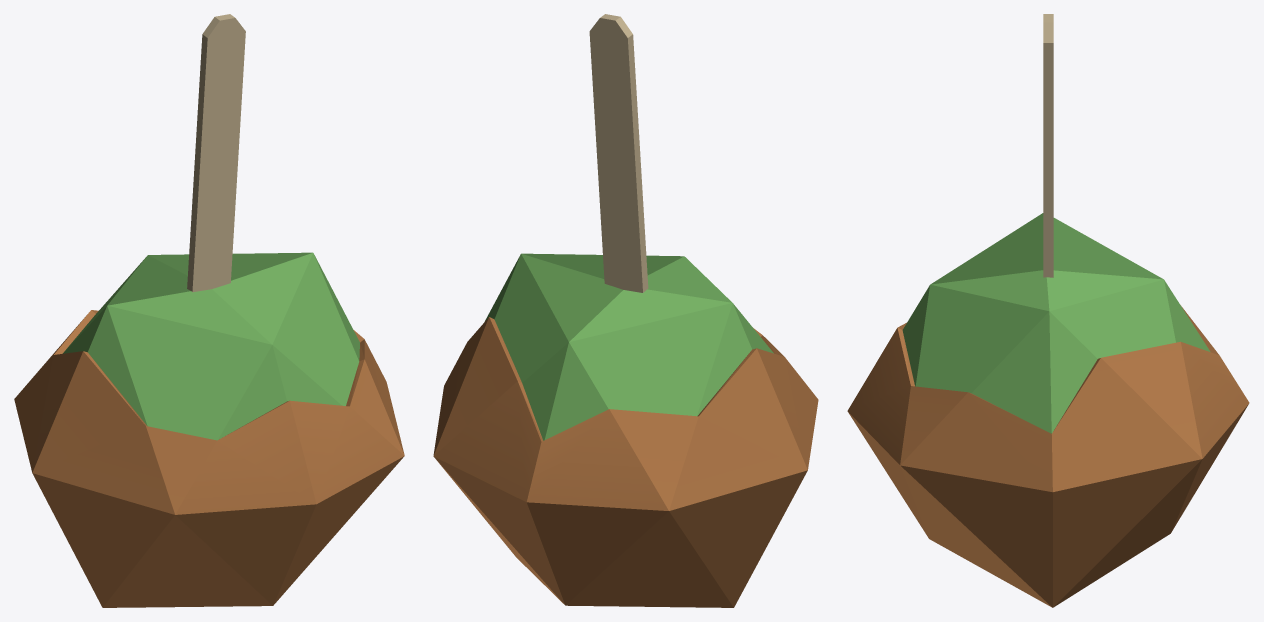
The model's file is SM_CaramelApple.fbx.
3 renders of one model, left to right at view 1: azimuth 30°, elevation 25°; view 2: azimuth 150°, elevation 25°; view 3: azimuth 270°, elevation 25°, orthographic. The views are drawn at different scales.
Parts seen in each view (by area): view 1: Caramel_Apple; view 2: Caramel_Apple; view 3: Caramel_Apple.
Boxes of the visible parts, left/top/right/bottom form: Caramel_Apple: left=14, top=14, right=404, bottom=607; Caramel_Apple: left=433, top=14, right=818, bottom=607; Caramel_Apple: left=847, top=14, right=1249, bottom=607.
Size of the model in its own units: 0.1959 by 0.2925 by 0.195.
